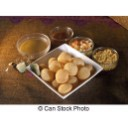poori: (56, 69, 69, 84), (64, 62, 78, 75), (77, 65, 90, 79), (42, 68, 54, 81), (50, 60, 62, 72), (58, 82, 72, 92), (59, 52, 71, 62)
